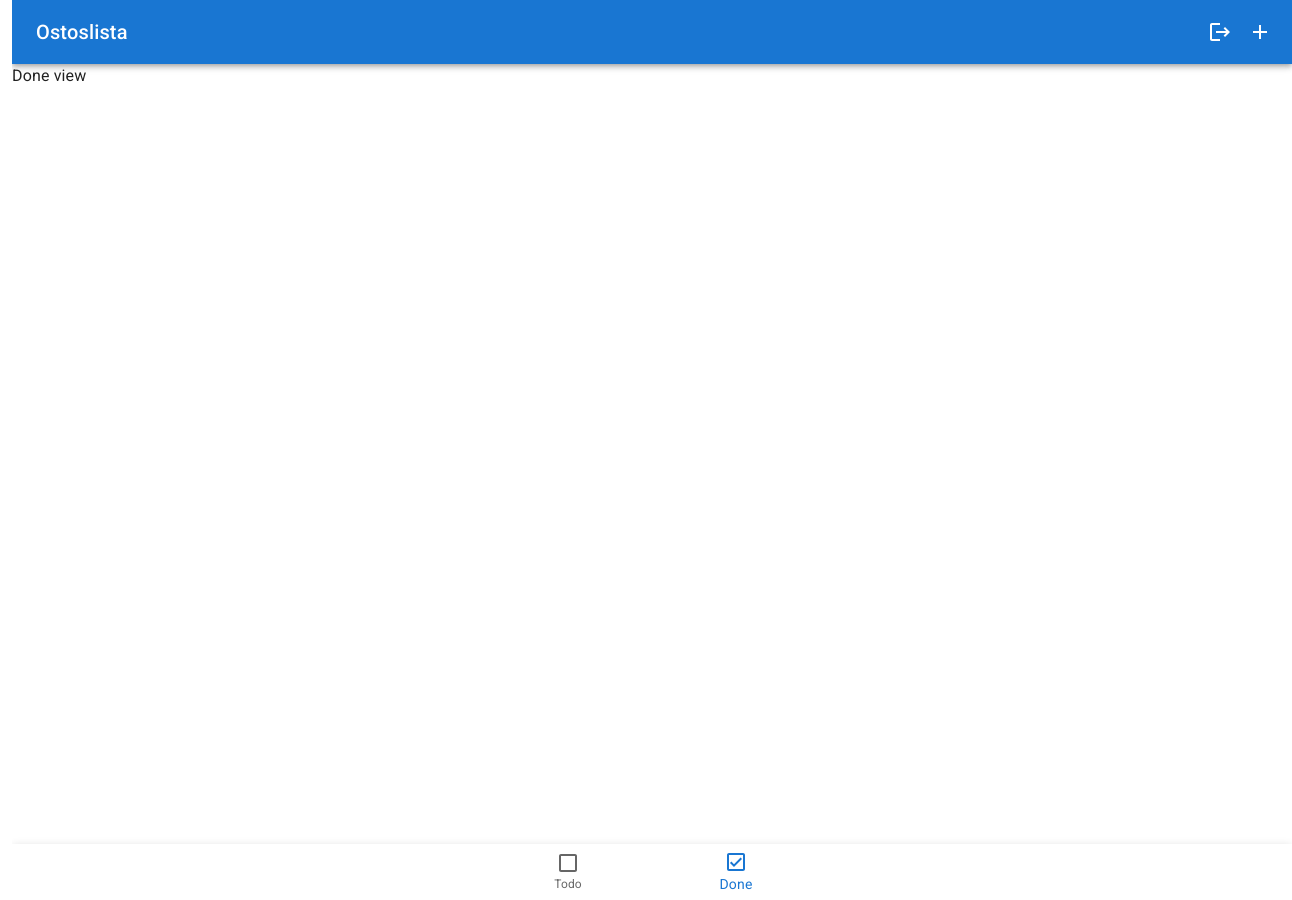
Test case: <ListLayout/> › should navigate to the todo list when the todo navigation item is clicked
Click the link "Todo". click: (568, 871)
box: [554,851,582,891]
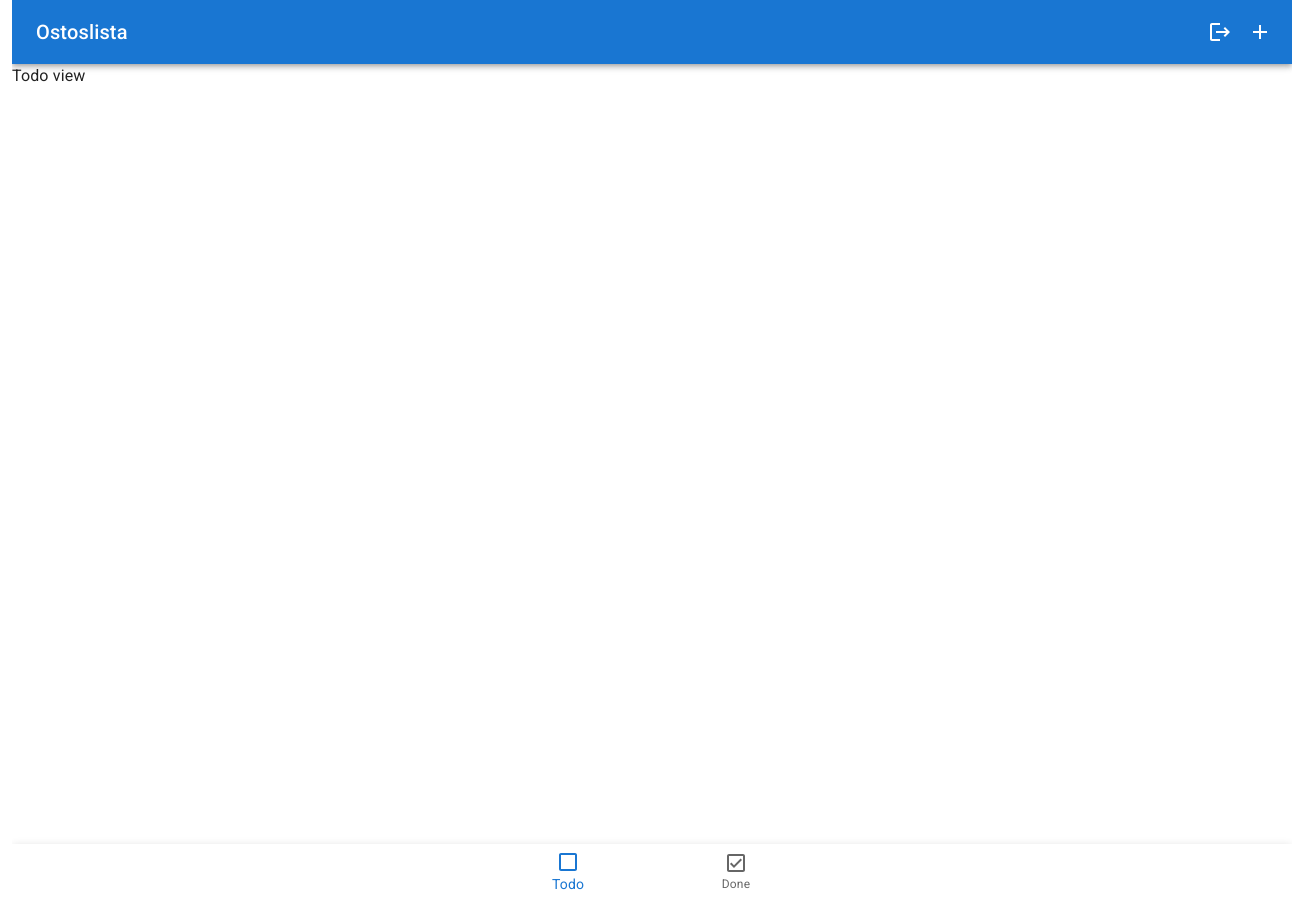
expect the text "Todo view" is shown: met, box [12,66,86,85]
